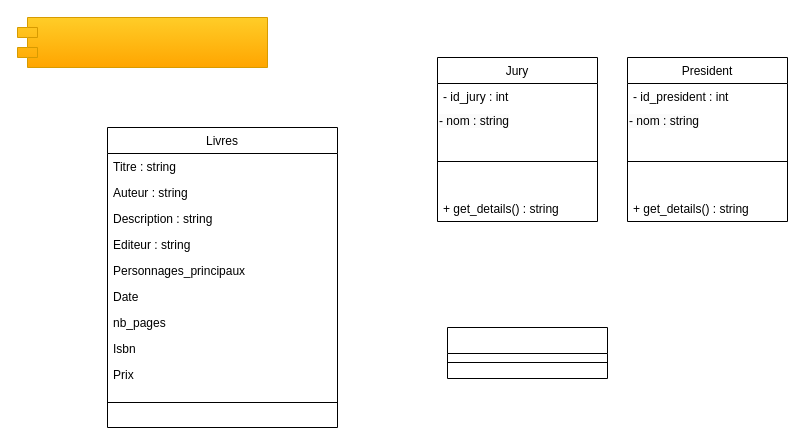
The diagram is 805 pixels wide and 445 high, and some of its shapes have lost their labels. The centre of each missing label's shape, as x and y in pixels:
DIAGRAMME DE CLASSES Prix Goncourt: point (142, 42)
Utilisateur: point (527, 352)
